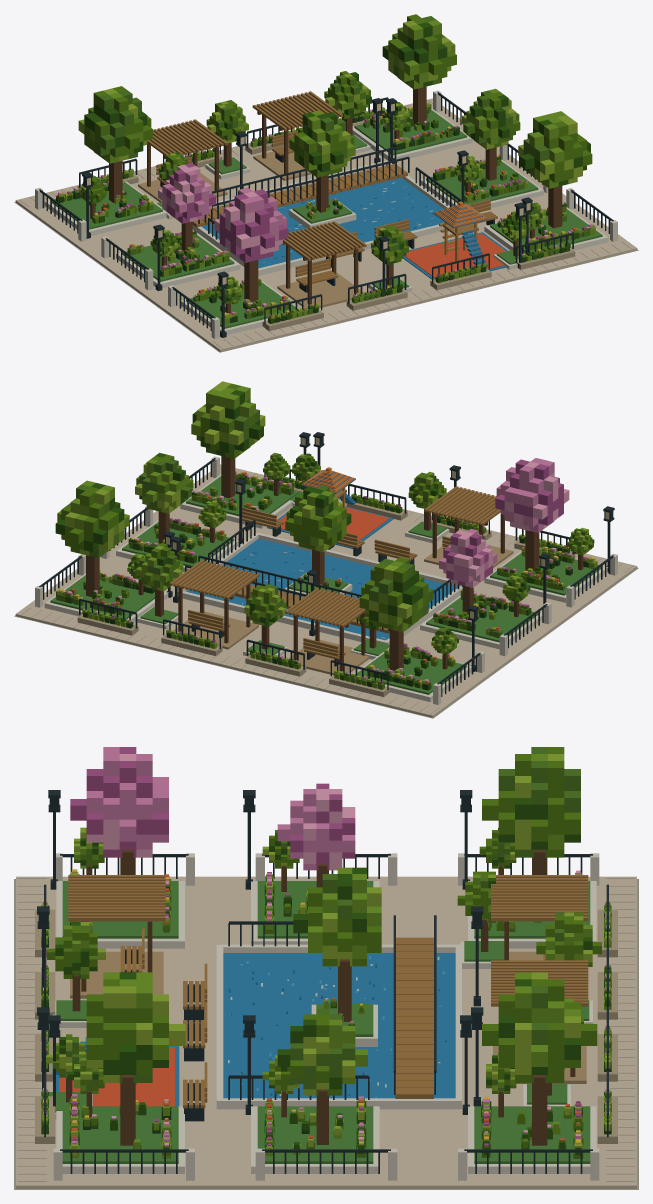
Rendered from SM_Mapa_026.fbx.
3 renders of one model, top to bottom at view 1: azimuth 30°, elevation 25°; view 2: azimuth 150°, elevation 25°; view 3: azimuth 270°, elevation 25°, orthographic. The views are drawn at different scales.
Parts seen in each view (by area): view 1: SM_Mapa_026; view 2: SM_Mapa_026; view 3: SM_Mapa_026.
Boxes of the visible parts, x1=… form: SM_Mapa_026: x1=14, y1=14, x2=638, y2=352; SM_Mapa_026: x1=14, y1=381, x2=638, y2=718; SM_Mapa_026: x1=14, y1=747, x2=638, y2=1189.
Size of the model in its own units: 80 by 68 by 20.75.
